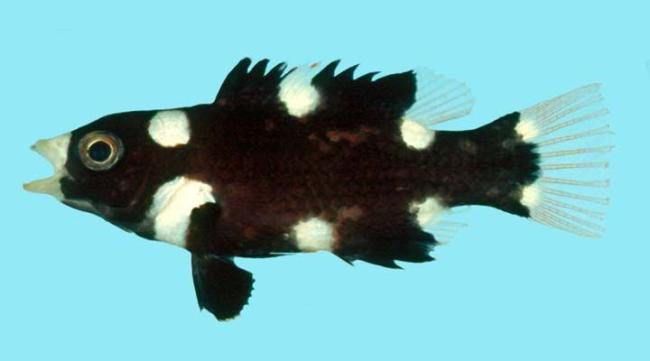fish: (20, 58, 616, 321)
